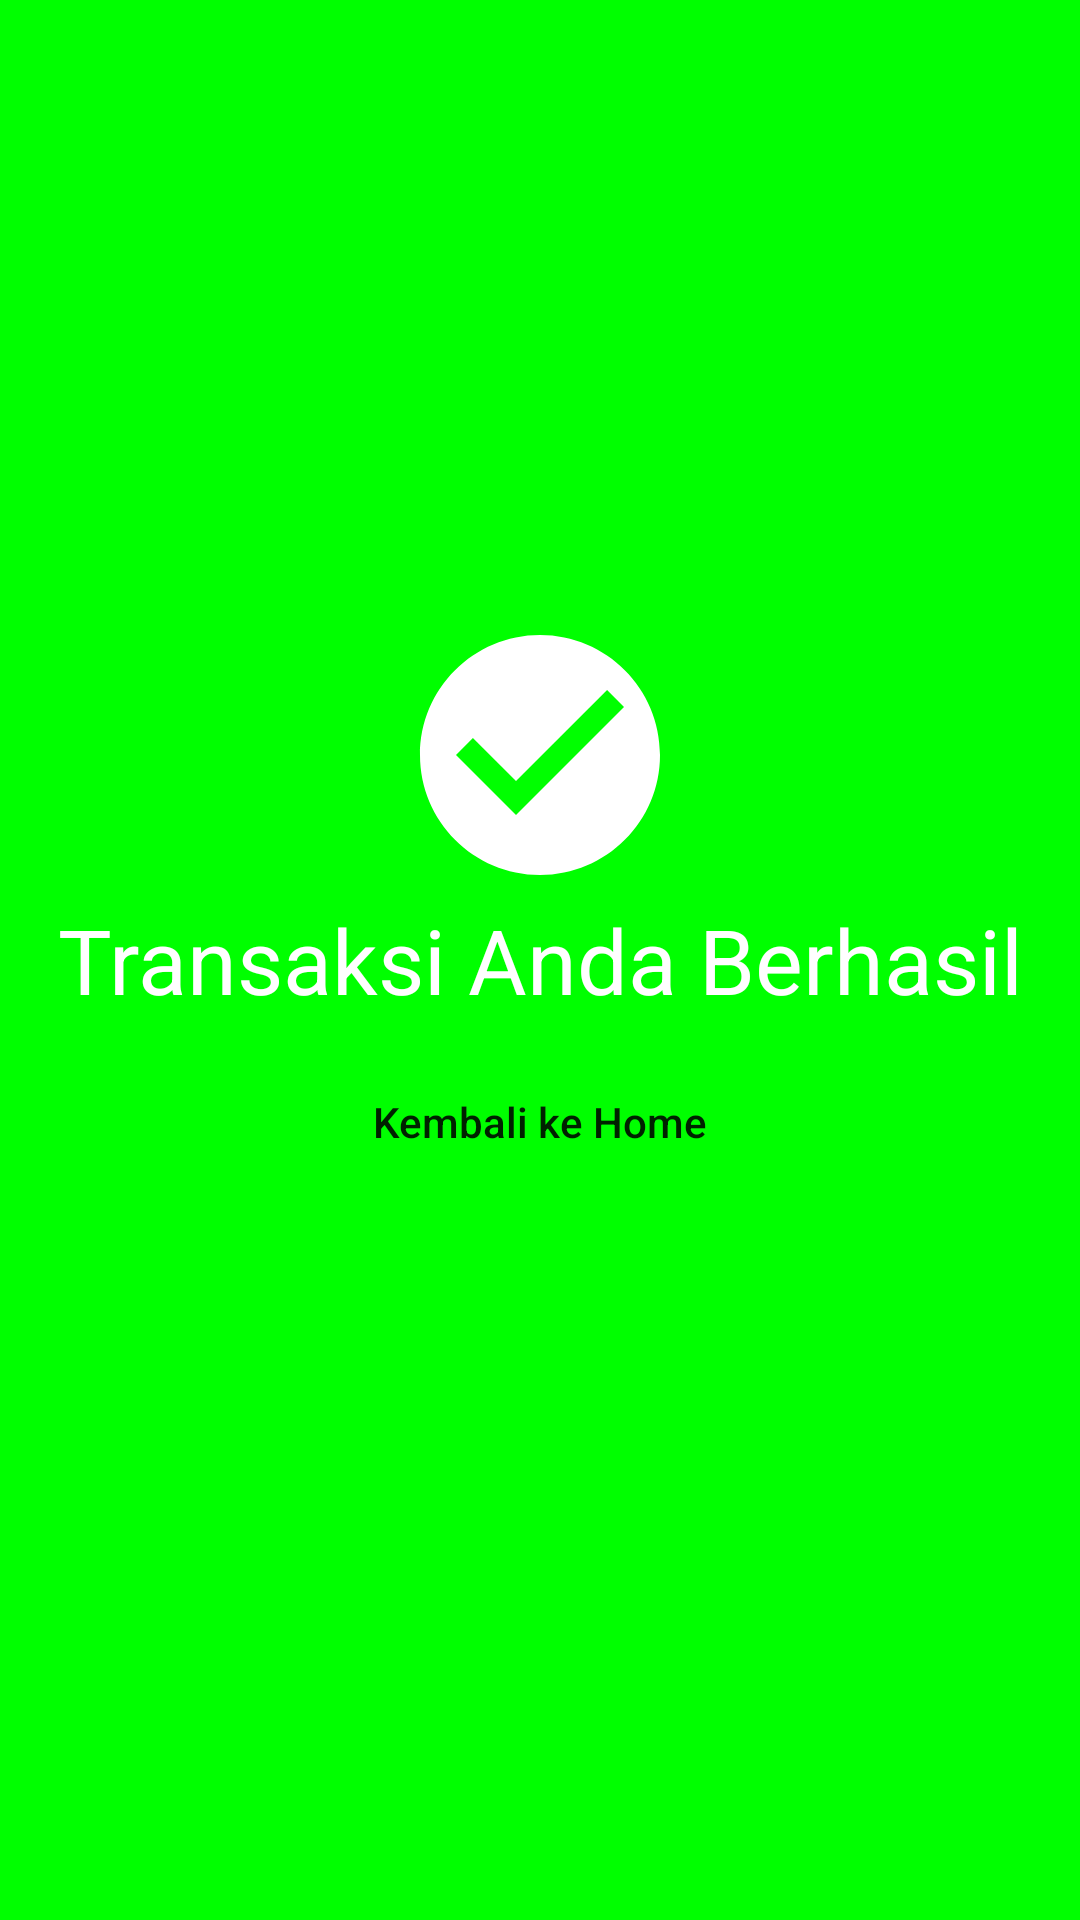

Locate icon controls on the screen. Image size 1080 x 1920, boxes as (x1, y1, x2, y2).
check circle: (420, 635, 660, 875)
